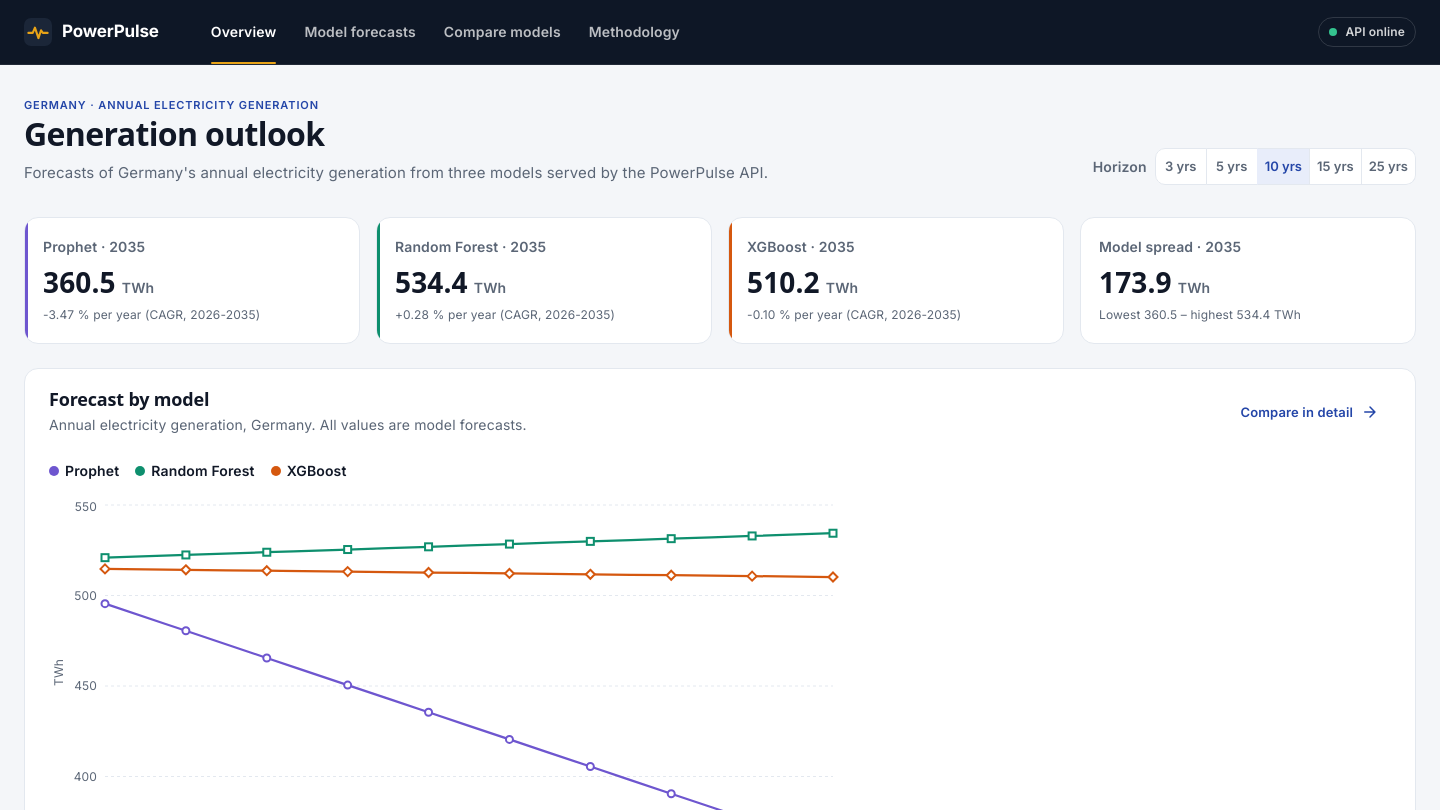
Test: application › changes the horizon and requests it from the API
expect the text "Prophet · 2035" is shown: met, box x1=43 y1=236 x2=145 y2=258
Click the button with aria-label "3 years ahead".
click(1181, 167)  # box x1=1155 y1=148 x2=1207 y2=185
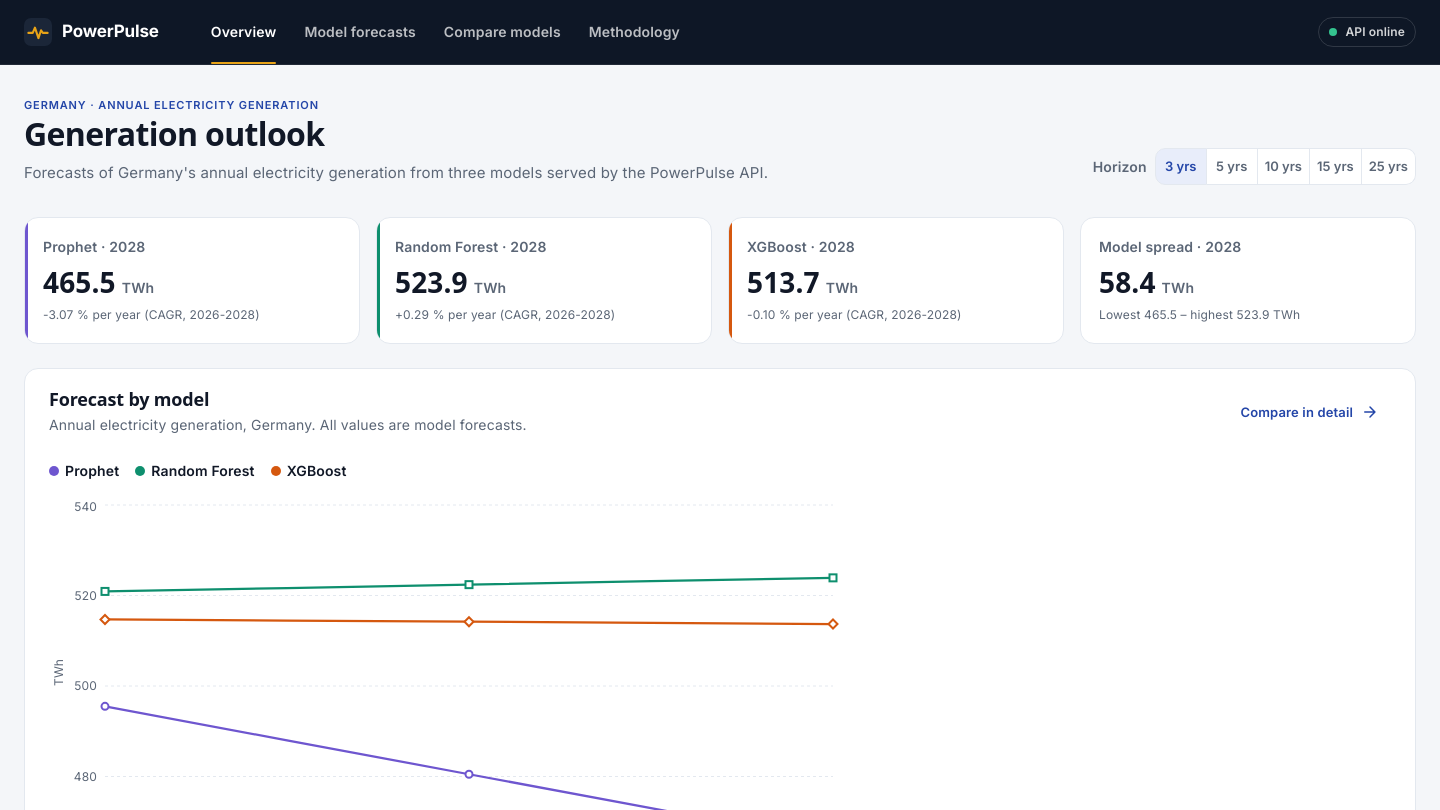
expect the text "Prophet · 2028" is shown: met, box x1=43 y1=236 x2=146 y2=258
